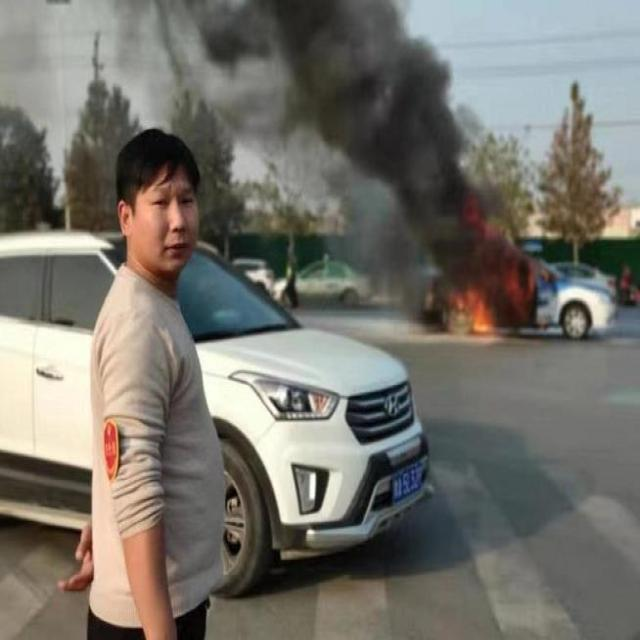Smoke: (207, 0, 478, 301)
